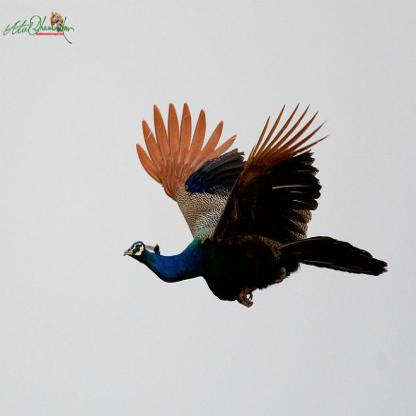Burung: (123, 104, 387, 307)
